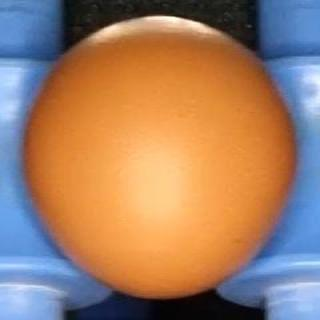Telur: (12, 15, 304, 300)
